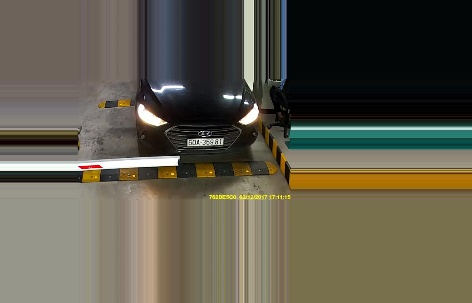plate: (187, 137, 225, 146)
